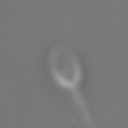normal: (71, 83, 105, 128)
